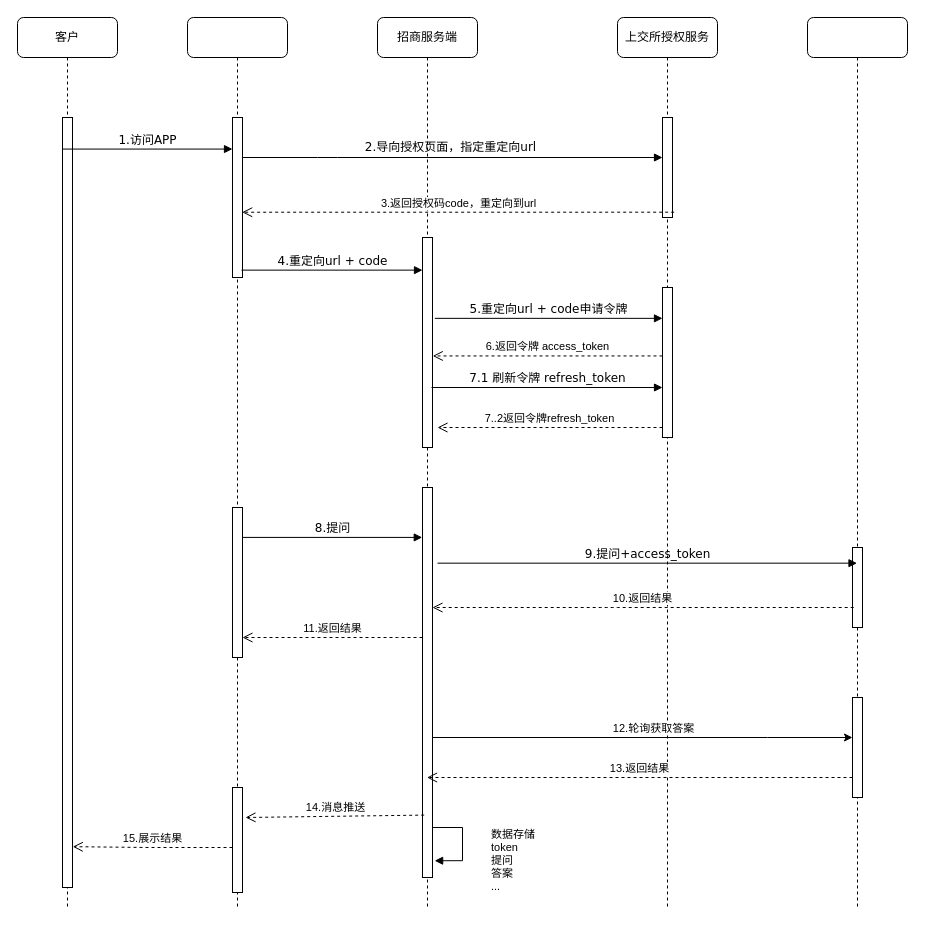
Image size: 925x925. Some labels were removed from this diagram. Here are the shapes that lost their labels. From the top down, the box of each, then its label:
(186, 16, 288, 908): APP端
(806, 16, 908, 908): 上交所资源服务
